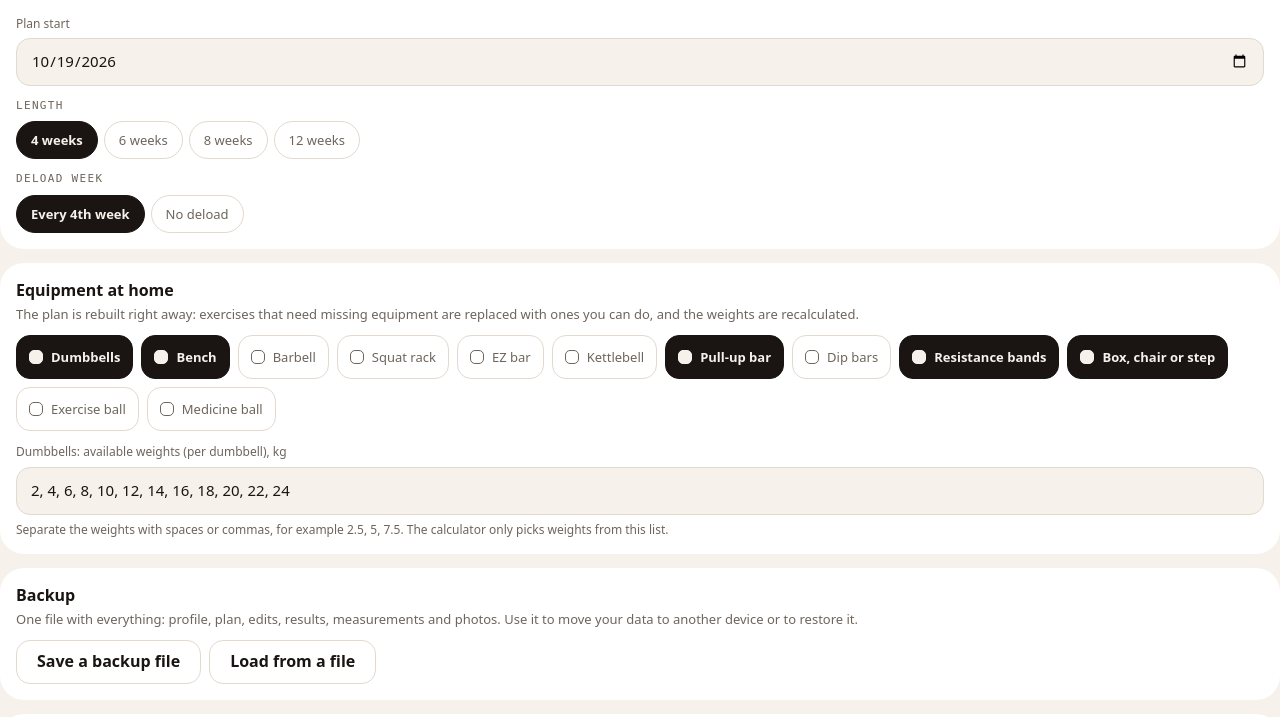
Test case: SettingsScreen: equipment › explains how the plan changed after adding equipment
(page scrolled)
What coordinates should you click on to do the following:
click the checkbox labelled "Barbell"
I would click on:
 (283, 357)
Its box is [238,335,329,379].
(page scrolled)
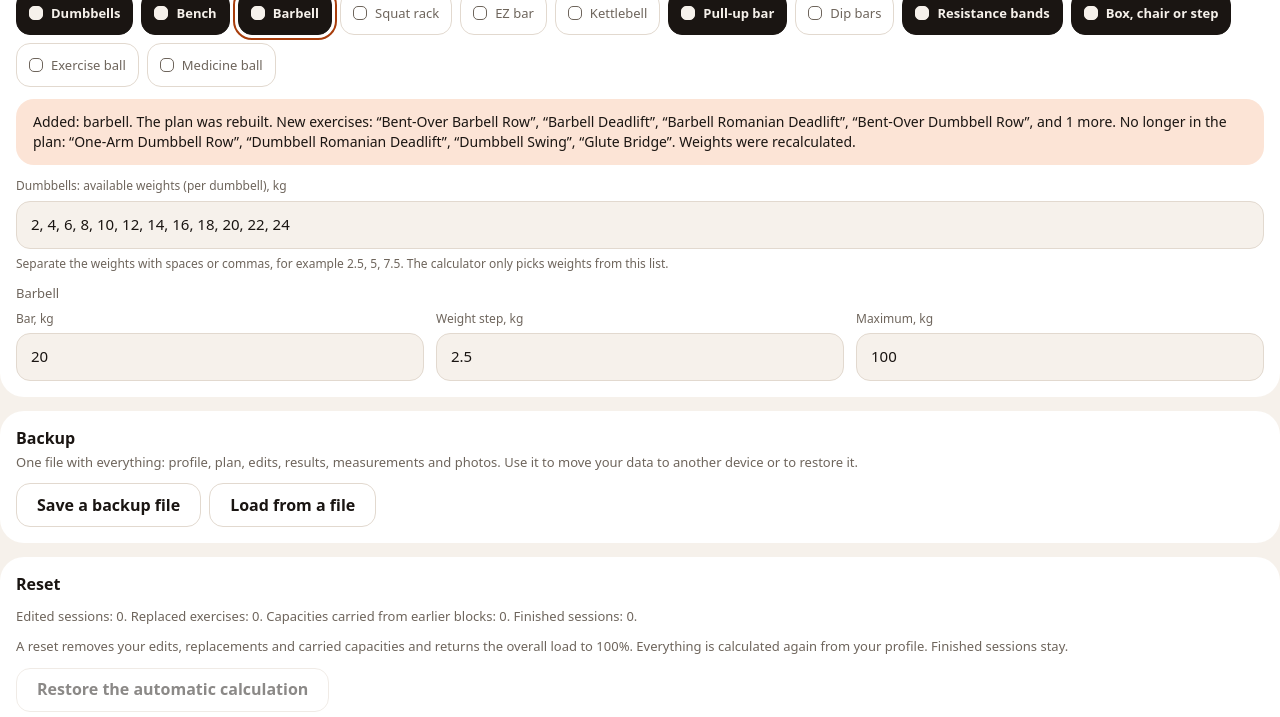
Now the message shows "Added: barbell.", box [33,112,1227,151]
Now the message shows "The plan was rebuilt.", box [33,112,1227,151]
Now the message shows "No longer in the plan:", box [33,112,1227,151]
